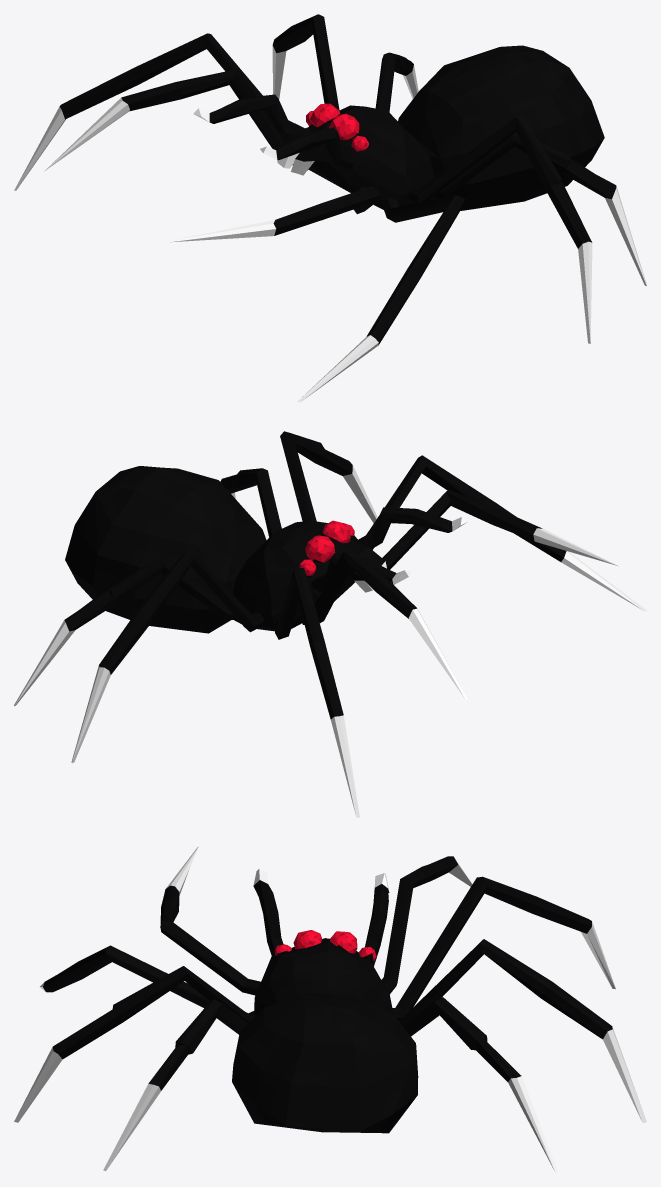
Rendered from spiderAttack13.obj.
The picture shows the model from 3 angles, top to bottom: view 1: azimuth 30°, elevation 25°; view 2: azimuth 150°, elevation 25°; view 3: azimuth 270°, elevation 25°; orthographic projection.
Parts seen in each view (by area): view 1: Cube.004_Cube.005; view 2: Cube.004_Cube.005; view 3: Cube.004_Cube.005.
Boxes of the visible parts, x1,y1,x2,y2 form: Cube.004_Cube.005: (14, 14, 646, 402); Cube.004_Cube.005: (14, 431, 646, 817); Cube.004_Cube.005: (14, 846, 646, 1172).
Size of the model in its own units: 30.37 by 10.51 by 34.7.
